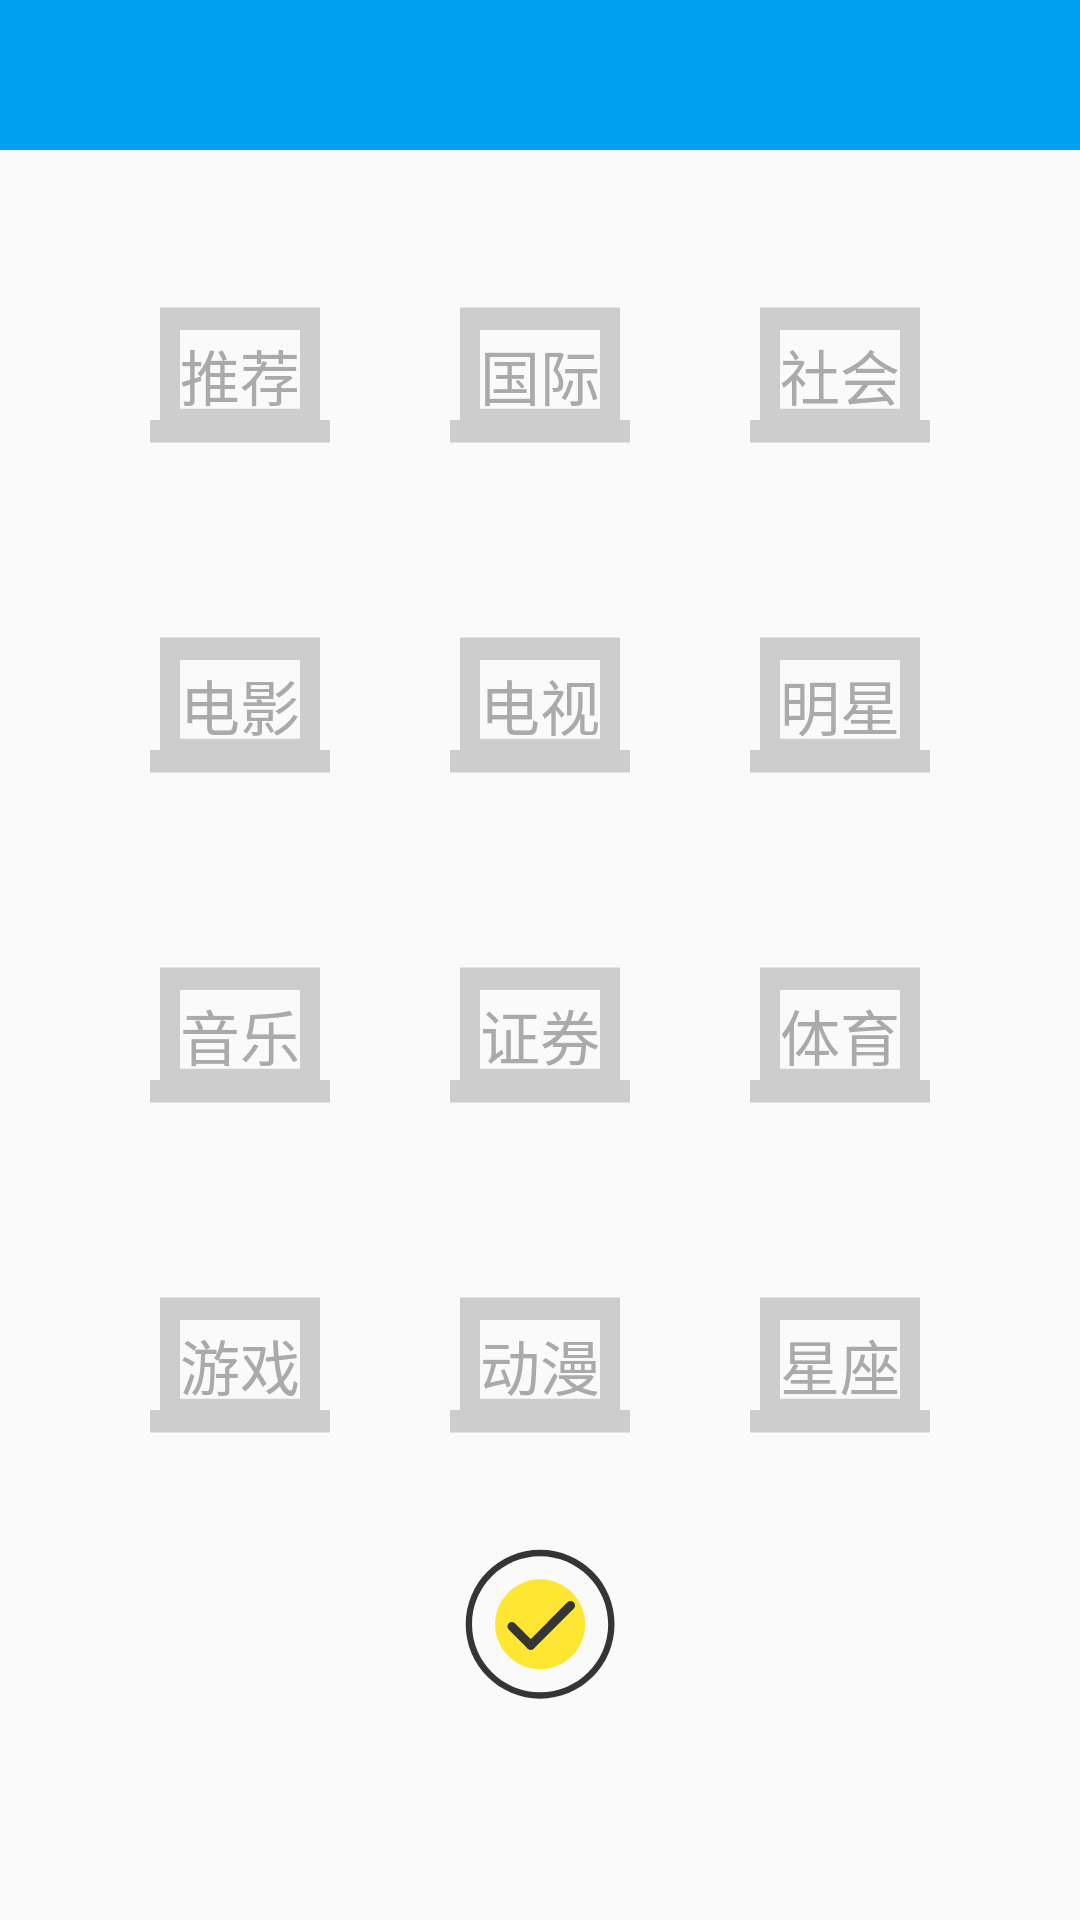

Named icons in this screenshot (1080 × 1920) and their bounding boxes, {"left": x1, "top": y1, "right": x2, "bottom": y2}:
confirm: {"left": 465, "top": 1549, "right": 615, "bottom": 1699}
